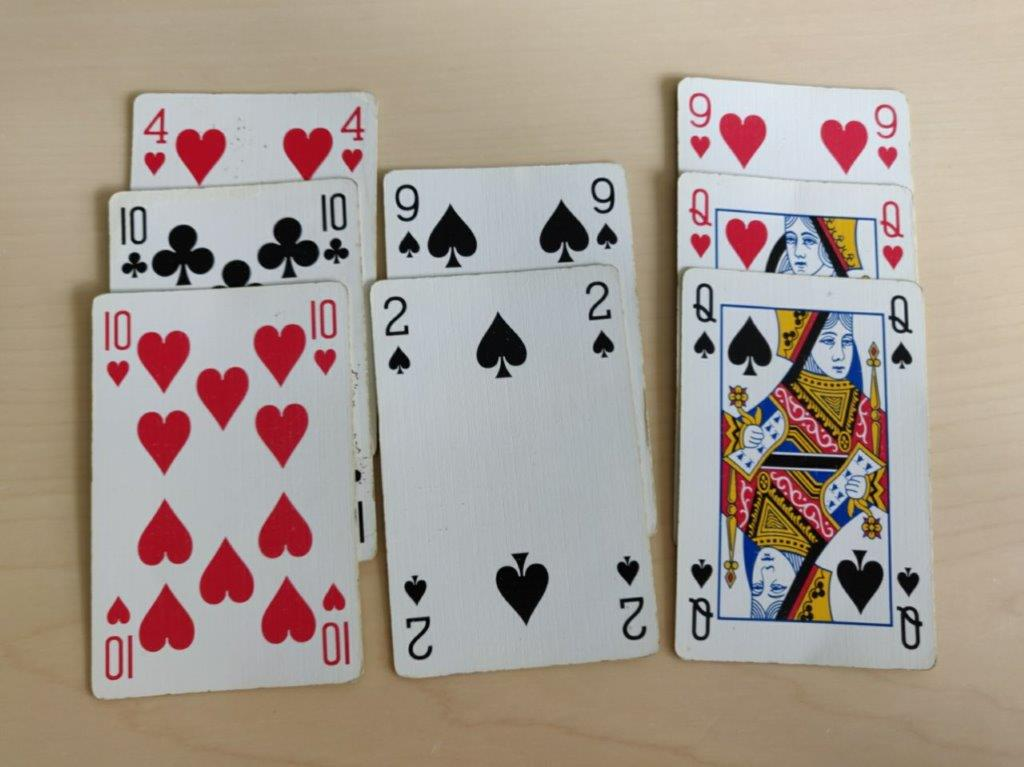10C: (111, 200, 154, 282), (312, 187, 354, 269)
10H: (97, 303, 135, 390), (304, 294, 342, 379)
2S: (377, 290, 419, 379), (581, 278, 617, 363)
4H: (138, 101, 171, 179), (336, 102, 370, 176)
9H: (871, 100, 904, 175), (684, 86, 714, 160)
9S: (586, 173, 624, 253), (392, 180, 423, 260)
QH: (877, 197, 912, 275), (685, 183, 715, 260)
QS: (883, 288, 919, 372), (689, 279, 723, 363)
